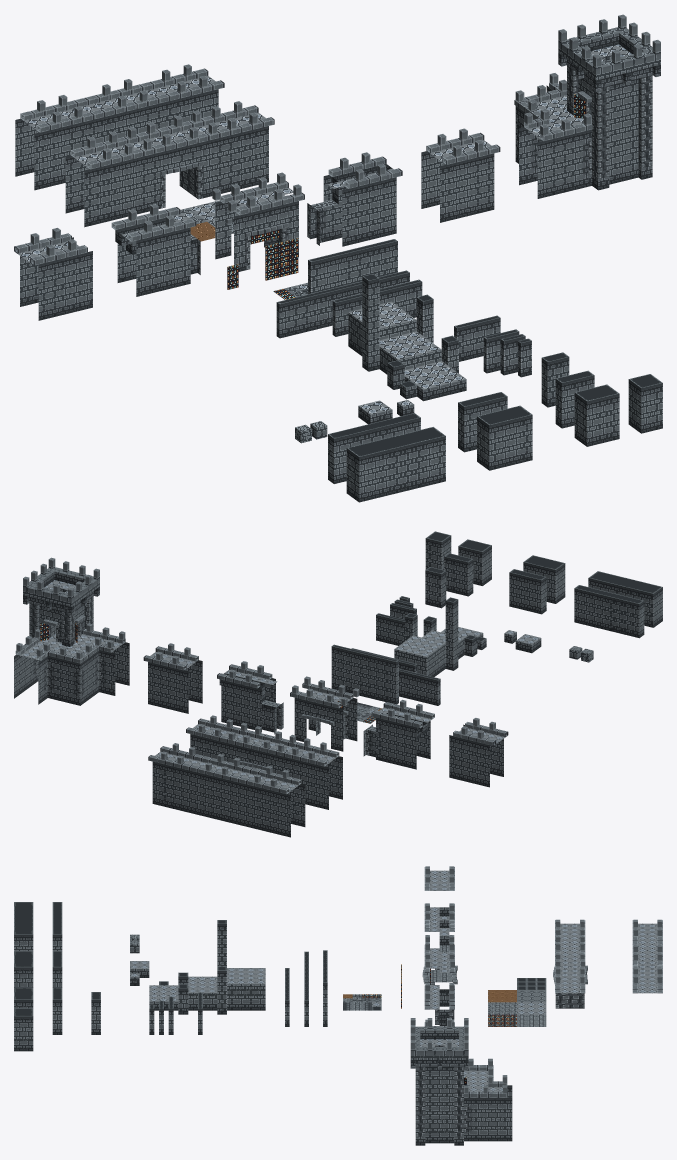
The model's file is MedievalSet.fbx.
3 views of the same model, one above another, from view 1: azimuth 30°, elevation 25°; view 2: azimuth 150°, elevation 25°; view 3: azimuth 270°, elevation 25° (orthographic). The views are drawn at different scales.
Visible parts, largest first — view 1: CornerTower, CastleWallA, MidSectionBa, EntranceSectionAb, EntranceSectionAa, WallDb, WallSection1, WallSection, CastleEntranceA, CastleEntranceB, MidSectionBb, WallDa (+18 smaller); view 2: CornerTower, CastleWallA, EntranceSectionAa, EntranceSectionAb, CastleEntranceA, WallSection1, WallSection, MidSectionBa, CastleWallSpecialE2, WallBb, CastleEntranceB, WallDb (+11 smaller); view 3: CornerTower, CastleWallA, CastlePlatformC, CastleEntranceB, CastleEntranceA, EntranceSectionAa, EntranceSectionAb, WallDb, CastlePlatformB, WallC, MidSectionBb, MidSectionBa (+9 smaller).
Part boxes in pixels (box(x1,y1,x2,y2)): CornerTower: box(514, 14, 660, 198); CastleWallA: box(15, 64, 224, 190); MidSectionBa: box(65, 131, 155, 227); EntranceSectionAb: box(307, 152, 402, 246); EntranceSectionAa: box(111, 204, 200, 296); WallDb: box(346, 427, 445, 502); WallSection1: box(421, 128, 500, 222); WallSection: box(14, 227, 92, 320); CastleEntranceA: box(212, 172, 304, 271); CastleEntranceB: box(128, 110, 220, 210); MidSectionBb: box(200, 101, 274, 193); WallDa: box(477, 405, 532, 470); CornerTower: box(14, 557, 129, 705); CastleWallA: box(148, 743, 305, 837); EntranceSectionAa: box(363, 699, 434, 769); EntranceSectionAb: box(217, 661, 283, 734); CastleEntranceA: box(290, 676, 359, 751); WallSection1: box(143, 643, 202, 713); WallSection: box(449, 717, 508, 787); MidSectionBa: box(274, 738, 342, 809); CastleWallSpecialE2: box(331, 644, 398, 704); WallBb: box(574, 585, 644, 638); CastleEntranceB: box(226, 722, 295, 774); WallDb: box(588, 571, 662, 627); CornerTower: box(410, 1018, 512, 1145); CastleWallA: box(632, 919, 662, 993); CastlePlatformC: box(227, 968, 265, 1010); CastleEntranceB: box(553, 935, 587, 1008); CastleEntranceA: box(422, 935, 457, 984); EntranceSectionAa: box(424, 903, 454, 969); EntranceSectionAb: box(424, 983, 454, 1025); WallDb: box(14, 902, 33, 950); CastlePlatformB: box(188, 976, 217, 1010); WallC: box(14, 1008, 33, 1051); MidSectionBb: box(555, 966, 585, 993); MidSectionBa: box(555, 919, 585, 952).
Size of the model in its own units: 14.25 by 3 by 16.77.
Materials: 1 (1 with a texture image).
